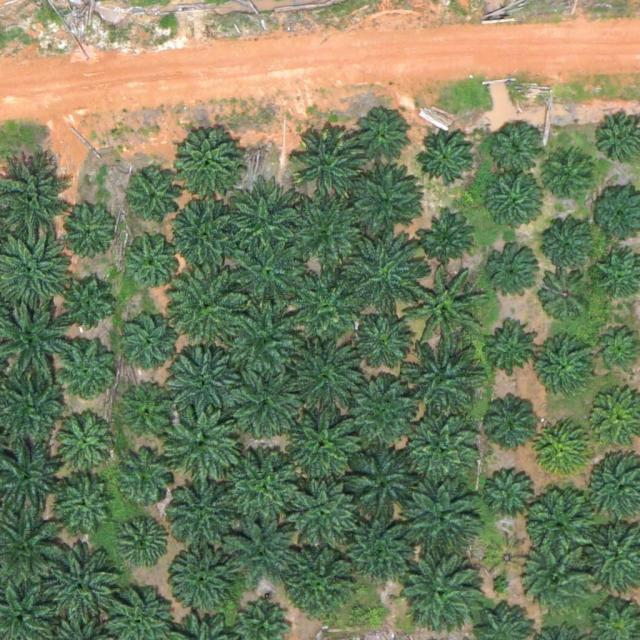Dead: (487, 537, 526, 576)
Healthy: (292, 125, 370, 204), (287, 192, 365, 271), (290, 272, 368, 351), (290, 342, 368, 421), (286, 411, 364, 490), (283, 544, 361, 623), (226, 514, 304, 593), (224, 449, 302, 528), (228, 303, 306, 382), (231, 236, 309, 315), (228, 186, 306, 265), (168, 198, 246, 277), (167, 341, 245, 420), (164, 407, 242, 486), (48, 547, 126, 626), (343, 237, 421, 316), (343, 378, 421, 457), (341, 445, 419, 524), (342, 513, 420, 592), (401, 485, 479, 564), (406, 555, 484, 634), (406, 342, 484, 421), (404, 270, 482, 349), (518, 540, 596, 619), (280, 473, 358, 551), (226, 368, 304, 446), (174, 268, 252, 346), (346, 161, 424, 239), (403, 407, 481, 485), (170, 127, 241, 198), (166, 484, 237, 555), (169, 549, 240, 619), (526, 486, 596, 557), (58, 199, 120, 262), (57, 343, 119, 406), (54, 411, 116, 474), (52, 474, 114, 537), (537, 340, 599, 402), (118, 513, 173, 568), (117, 448, 172, 503), (123, 385, 178, 440), (124, 311, 179, 366), (127, 173, 182, 228), (359, 315, 414, 370), (486, 177, 541, 232), (489, 249, 544, 304), (481, 319, 536, 374), (484, 392, 539, 447), (538, 266, 593, 321), (543, 148, 598, 203), (128, 234, 182, 289), (61, 280, 115, 335), (357, 113, 411, 168), (421, 210, 475, 265), (418, 129, 472, 184), (483, 466, 537, 521)
Small: (487, 119, 542, 174), (542, 216, 596, 271)
Yellow: (538, 422, 593, 477)
